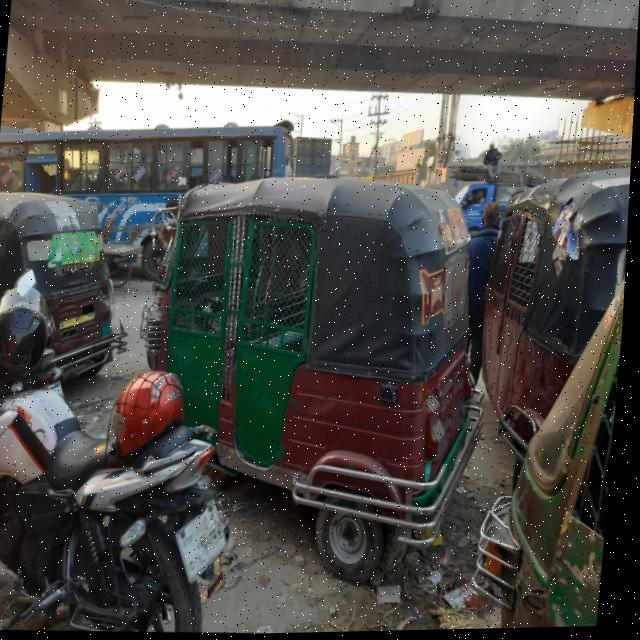cng: (110, 149, 505, 592)
